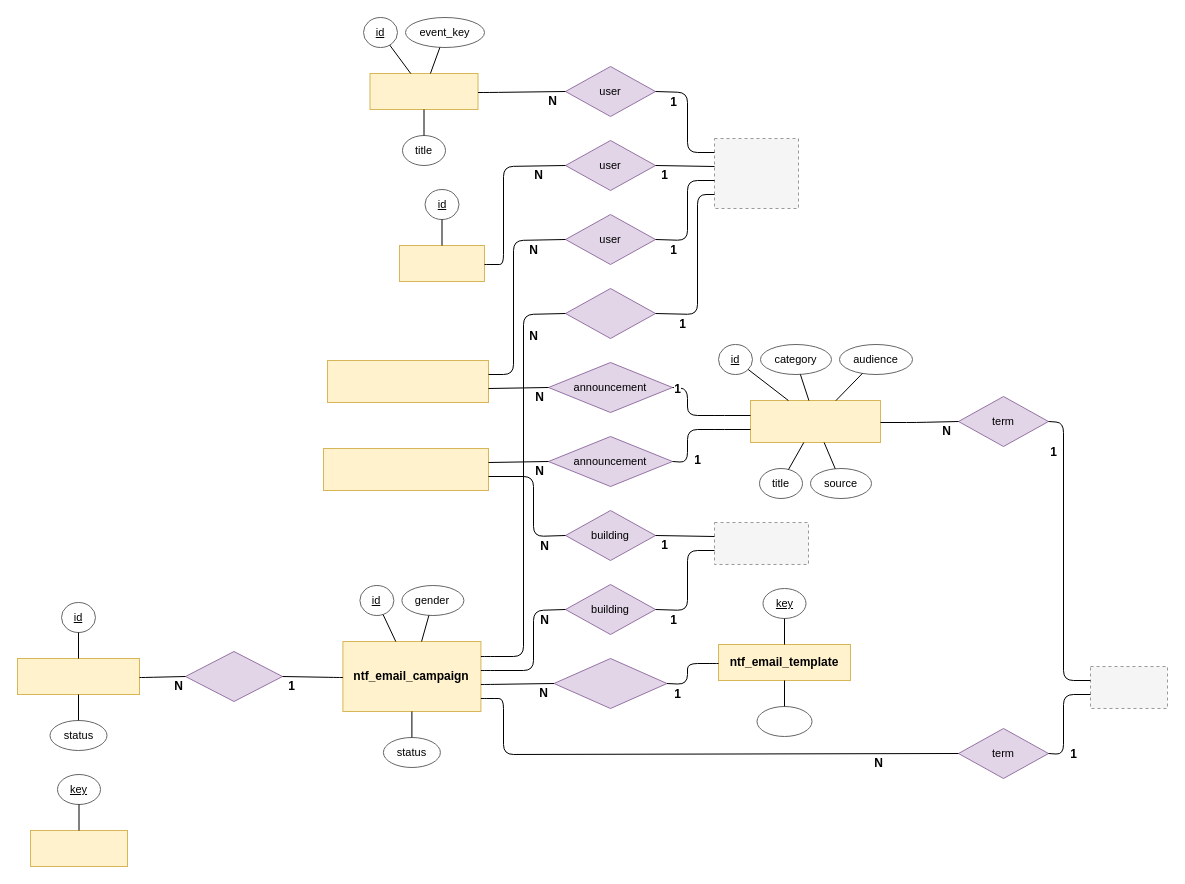
This 1185x884 diagram has some shape labels left out. The shapes that lost their labels are listed below. From the top down, each one's centre as x and y in pixels, then its label:
point 423,91: ntf_notification
point 756,173: auth_user
point 441,263: ntf_device
point 610,313: student
point 407,381: ntf_announcement_read
point 815,421: ntf_announcement
point 405,469: ntf_announcement_block
point 761,543: inv_building
point 78,676: ntf_email_outbox
point 233,676: campaign
point 610,683: template key
point 1129,687: cfg_term
point 784,721: name
point 79,848: ntf_template
